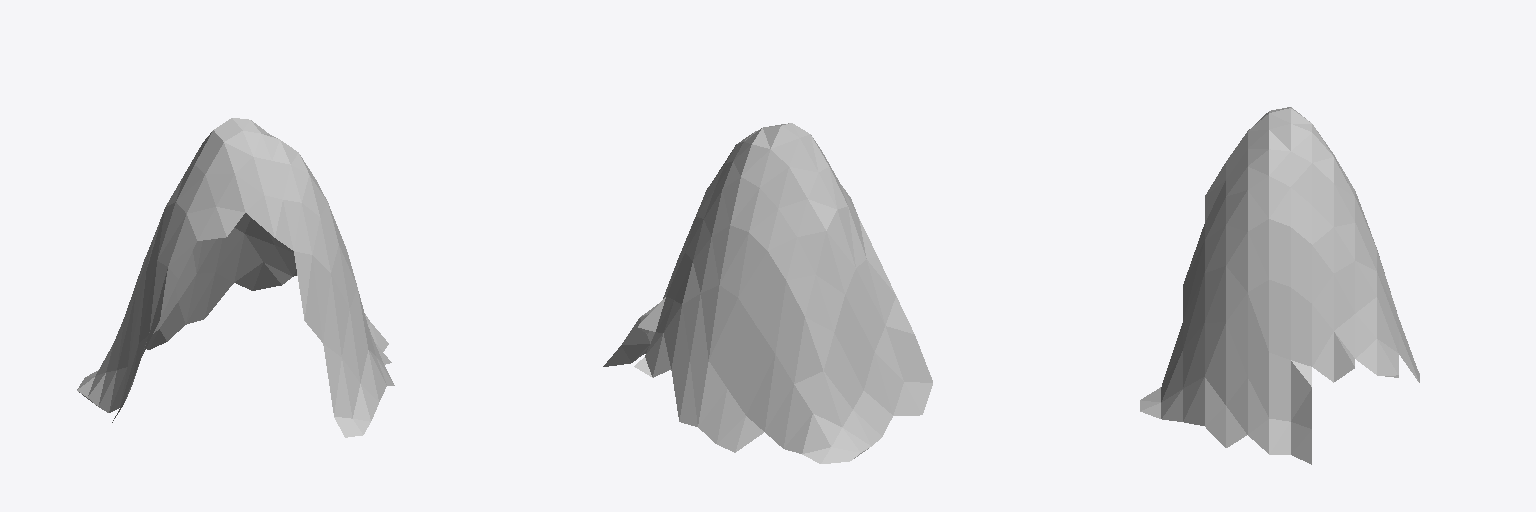
Rendered from tree_33.obj.
3 views of the same model, side by side, from view 1: azimuth 30°, elevation 25°; view 2: azimuth 150°, elevation 25°; view 3: azimuth 270°, elevation 25° (orthographic).
Parts seen in each view (by area): view 1: tree_33; view 2: tree_33; view 3: tree_33.
Boxes of the visible parts, x1,y1,x2,y2 form: tree_33: [77, 118, 394, 437]; tree_33: [603, 123, 932, 463]; tree_33: [1140, 107, 1419, 464].
Bounding box in the file's own units: 16 × 14.21 × 13.